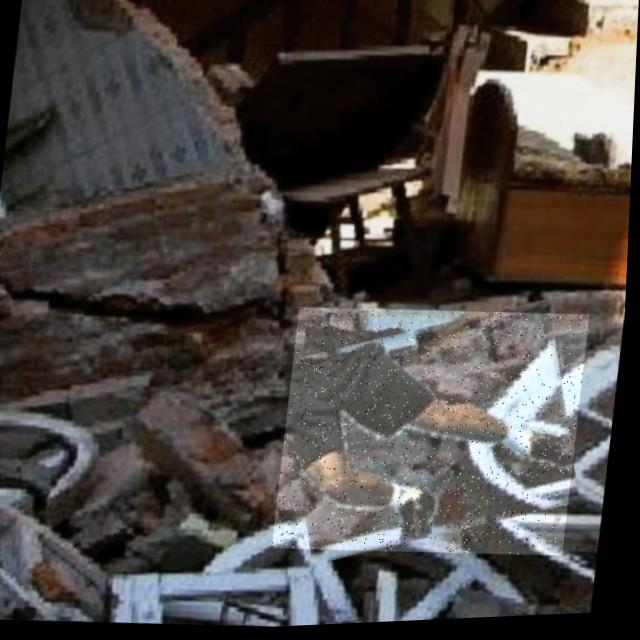Person in Rubble: (276, 299, 593, 571)
